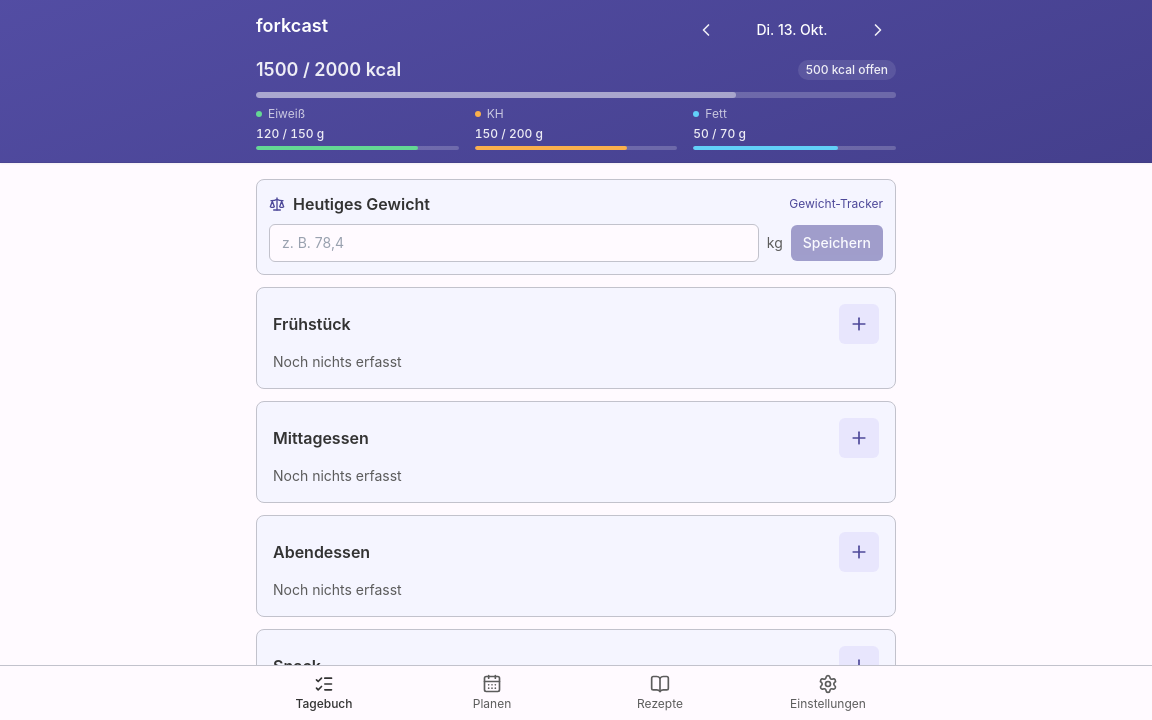
Test: App › hides the daily summary when on the settings screen
Expected: the text "1500 / 2000 kcal" is shown, [256,56,401,84]
Click the button "Einstellungen". click: [828, 693]
box: [744,666,912,719]
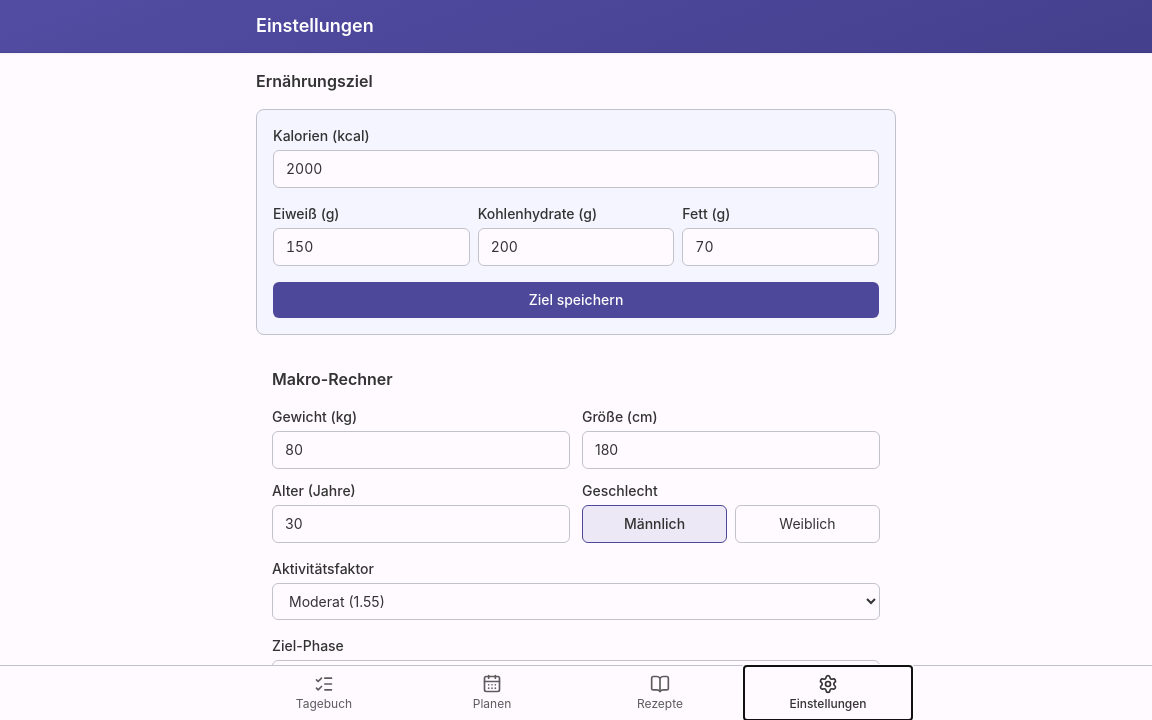
Result: the text "kcal offen" is gone
Result: the progress indicator is gone
